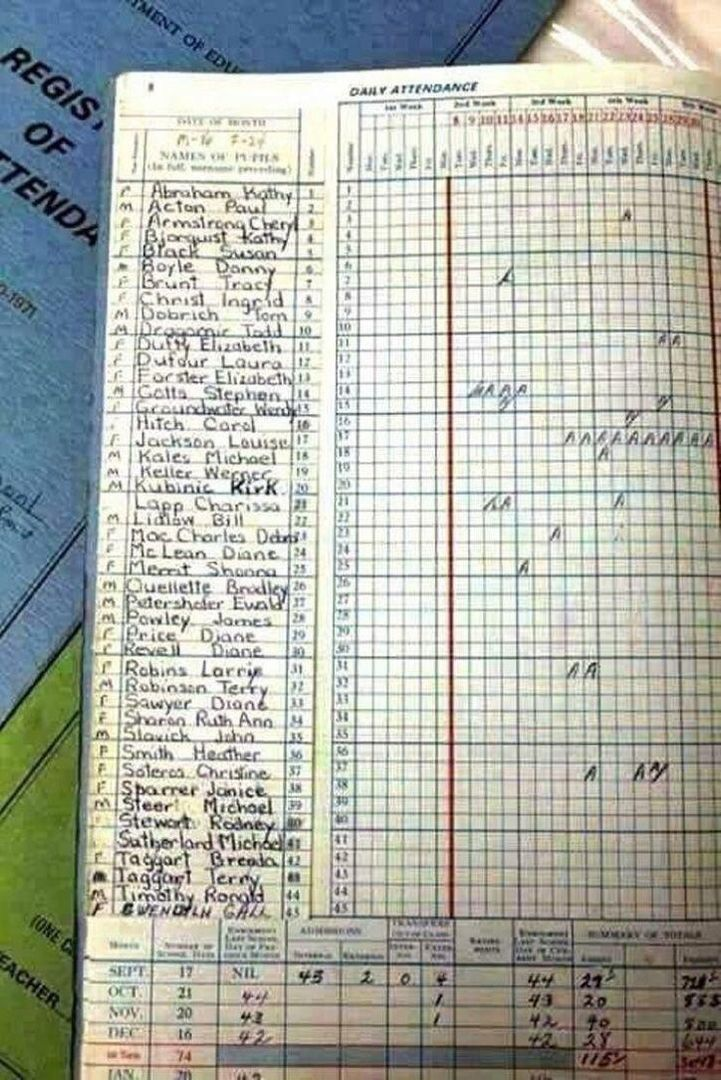footer: (82, 915, 718, 1078)
header: (112, 71, 718, 181)
